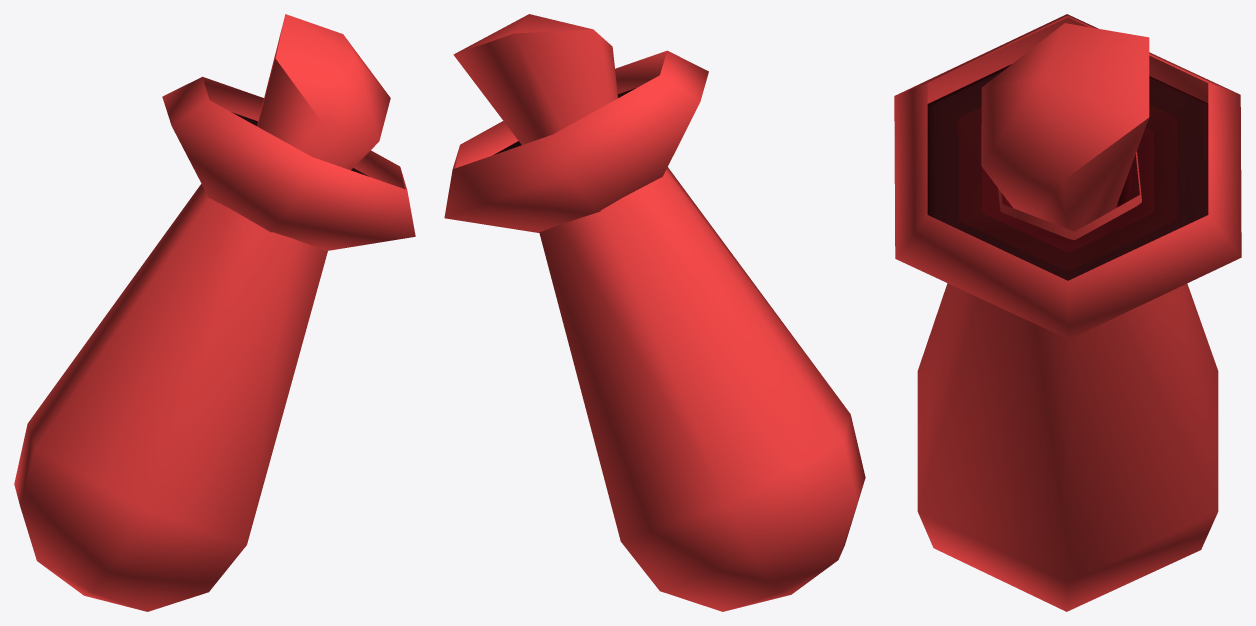
The model's file is ANTIDOTE_POTION.fbx.
The picture shows the model from 3 angles, left to right: view 1: azimuth 30°, elevation 25°; view 2: azimuth 150°, elevation 25°; view 3: azimuth 270°, elevation 25°; orthographic projection. The views are drawn at different scales.
Parts seen in each view (by area): view 1: ANTIDOTE_POTION; view 2: ANTIDOTE_POTION; view 3: ANTIDOTE_POTION.
Part boxes in pixels (bbox=[...]): ANTIDOTE_POTION: bbox=[14, 14, 415, 611]; ANTIDOTE_POTION: bbox=[444, 14, 865, 611]; ANTIDOTE_POTION: bbox=[894, 14, 1241, 611].
Size of the model in its own units: 3033 by 3901 by 1845.
